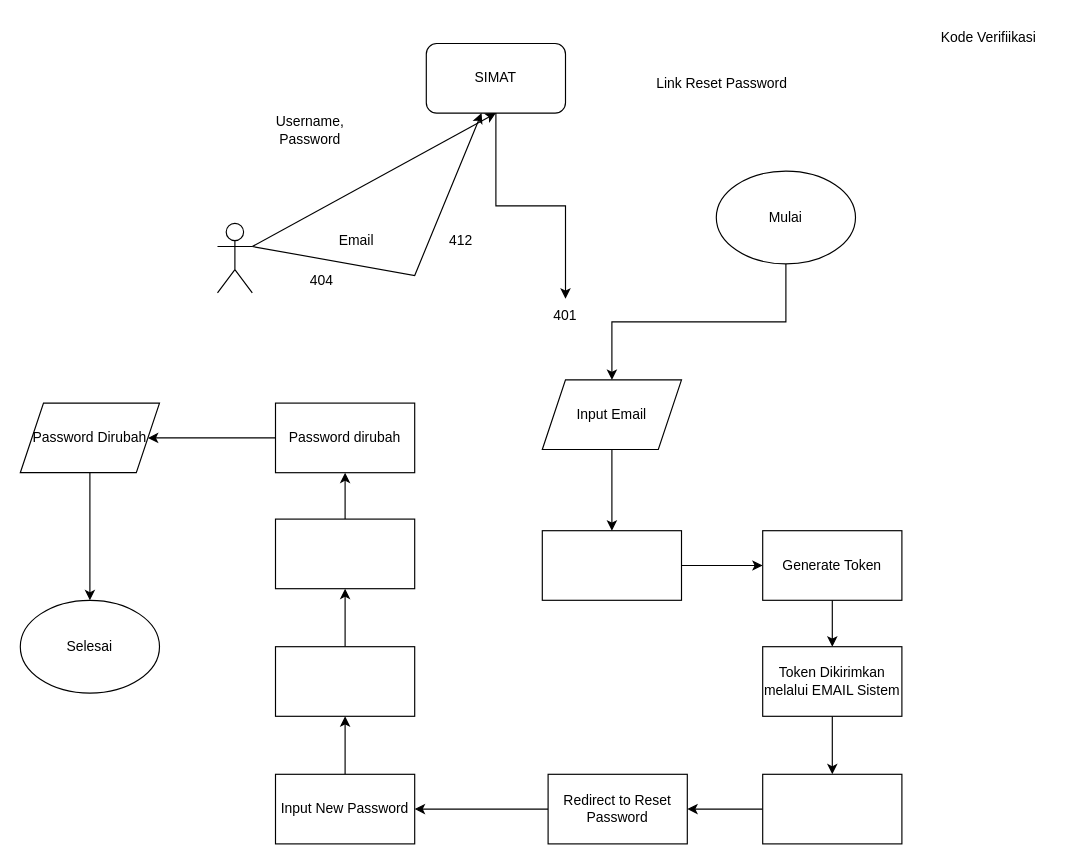
The diagram is 1073 pixels wide and 864 high, and some of its shapes have lost their labels. The box of each missing label's shape, as (x1, y1, x2, y2) in pixels:
Cek Kadaluarsa Token: (274, 646, 415, 716)
Cek Ketersediaan Email: (541, 530, 682, 600)
Pengguna Click Link: (762, 773, 902, 844)
Umar: (216, 222, 252, 293)
Verifikasi by Sistem: (274, 518, 415, 589)
